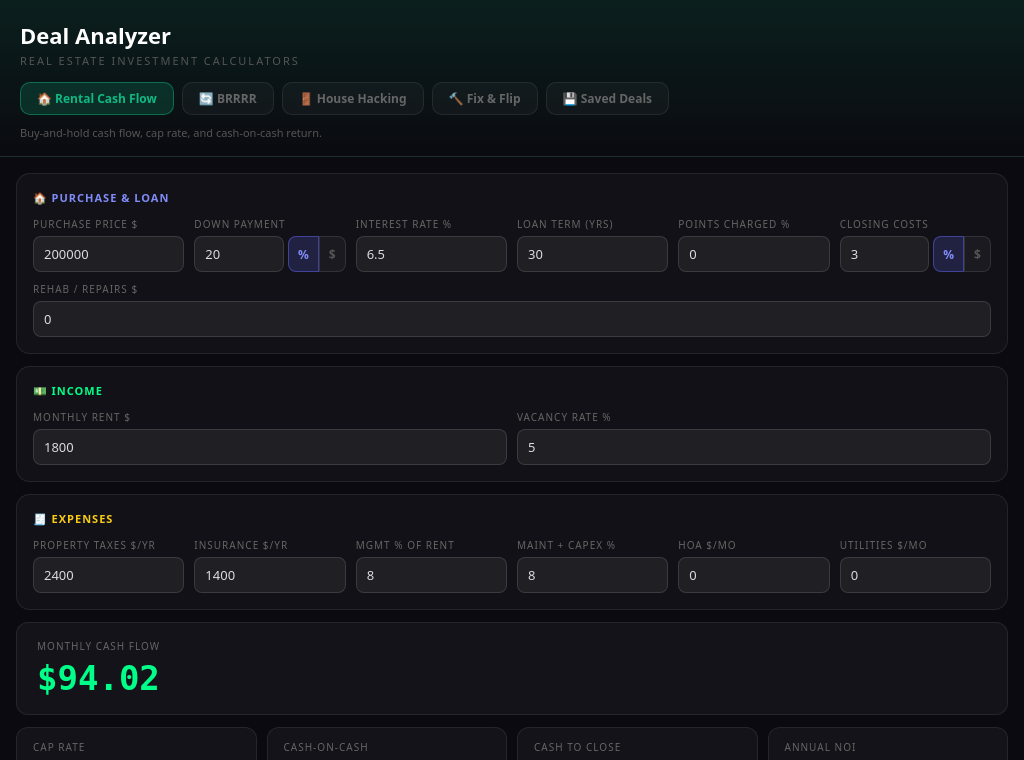
Scenario: BRRRR tab shows the calculator with computed outputs
Click the button "🔄 BRRRR" at [228, 98], box [182,82,274,115]
(page scrolled)
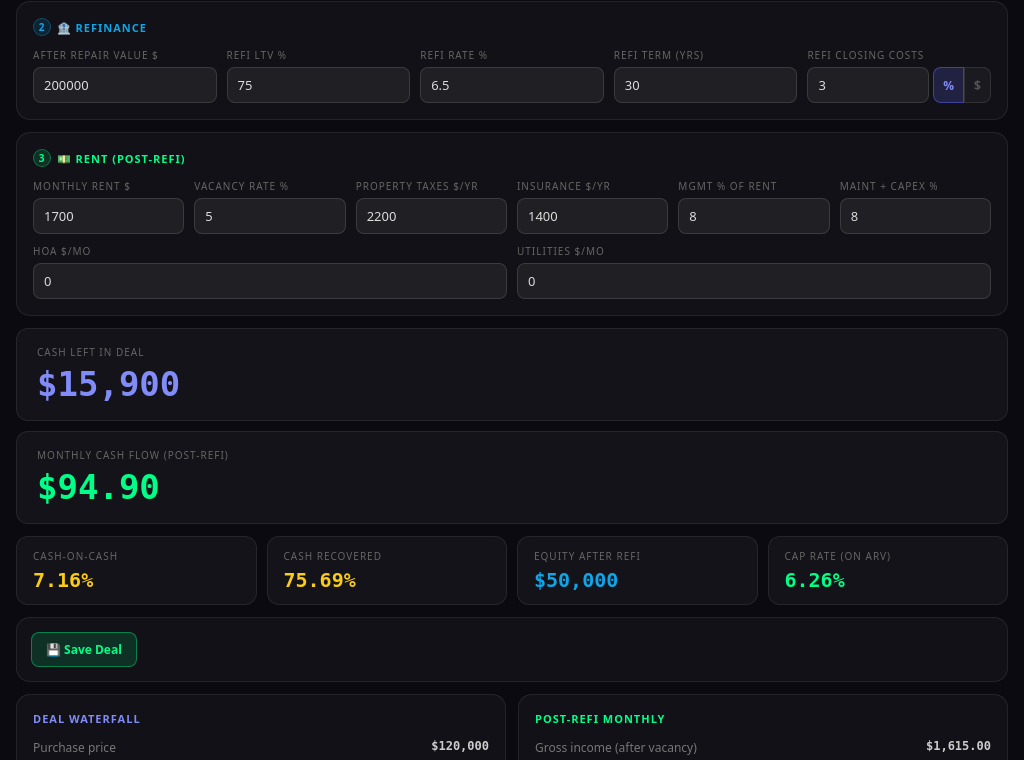
Now the text "Cash Left In Deal" is shown, box [37,345,144,359]
Now the text "Monthly Cash Flow (post-refi)" is shown, box [37,448,229,462]
Now the text "Cash Recovered" is shown, box [284,549,382,563]
